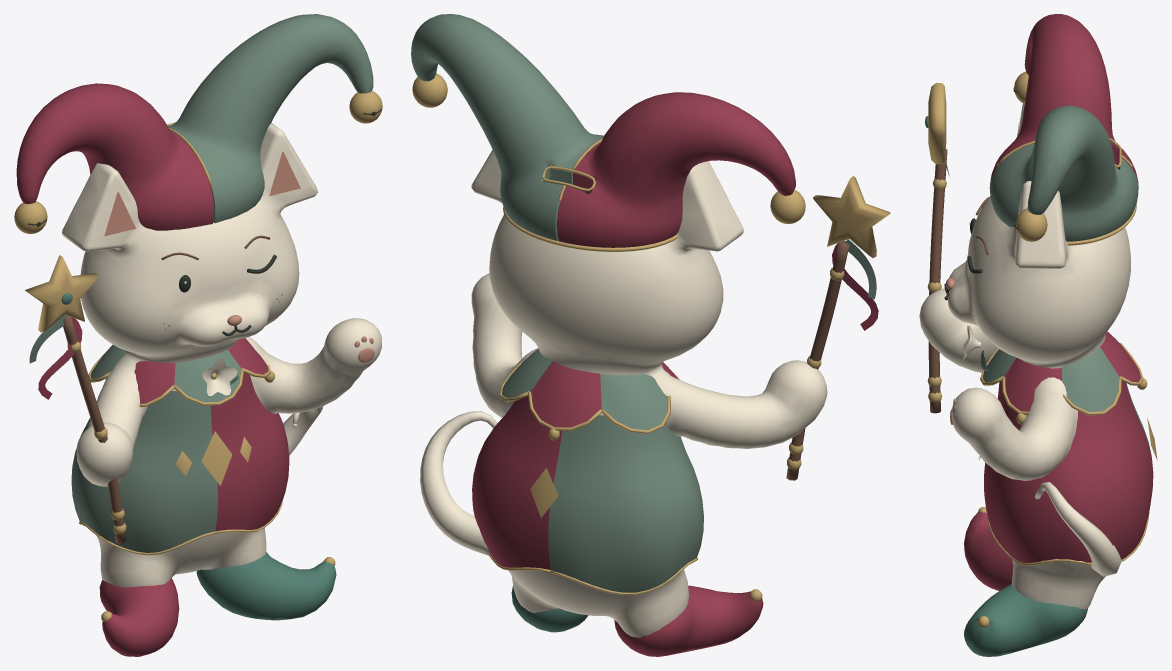
Rendered from fun.v1.glb.
3 renders of one model, left to right at view 1: azimuth 30°, elevation 25°; view 2: azimuth 150°, elevation 25°; view 3: azimuth 270°, elevation 25°, orthographic. The views are drawn at different scales.
Visible parts, largest first — view 1: Fun | Porcelain, Fun | Sage, Fun | Garnet, Fun | Gold, Fun | Celadon, Fun | Walnut, Fun | Rose, Fun | Ink; view 2: Fun | Porcelain, Fun | Sage, Fun | Garnet, Fun | Gold, Fun | Walnut, Fun | Celadon; view 3: Fun | Porcelain, Fun | Garnet, Fun | Sage, Fun | Gold, Fun | Celadon, Fun | Walnut.
Part boxes in pixels (x1,y1,x2,y2): Fun | Porcelain: (62, 123, 381, 587); Fun | Sage: (29, 14, 373, 552); Fun | Garnet: (16, 83, 289, 656); Fun | Gold: (14, 91, 382, 621); Fun | Celadon: (61, 293, 336, 620); Fun | Walnut: (63, 235, 270, 543); Fun | Rose: (104, 152, 374, 362); Fun | Ink: (28, 108, 381, 336); Fun | Porcelain: (420, 150, 827, 637); Fun | Sage: (411, 14, 876, 592); Fun | Garnet: (472, 92, 878, 656); Fun | Gold: (412, 73, 890, 601); Fun | Walnut: (786, 241, 849, 480); Fun | Celadon: (511, 586, 588, 632); Fun | Porcelain: (919, 101, 1130, 609); Fun | Garnet: (936, 14, 1153, 590); Fun | Sage: (946, 105, 1151, 457); Fun | Gold: (927, 71, 1157, 627); Fun | Celadon: (925, 116, 1087, 656); Fun | Walnut: (928, 149, 988, 413).
Bounding box in the file's own units: 0.7529 × 1 × 0.3851.
